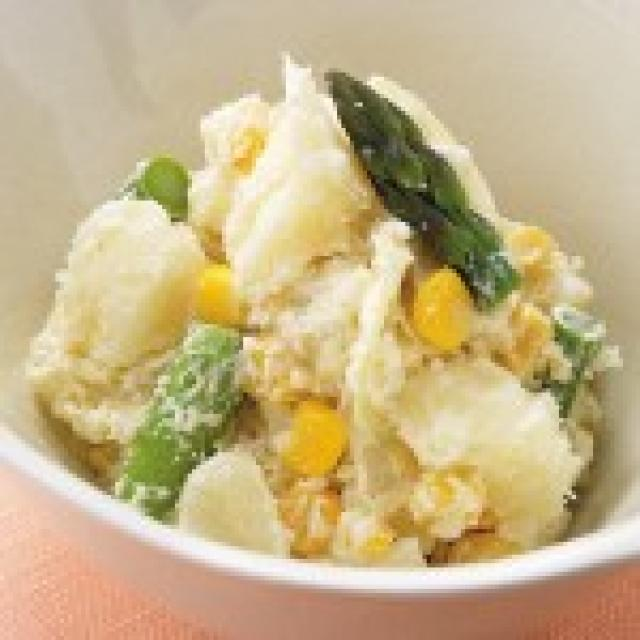蔬菜料理: (17, 38, 627, 572)
